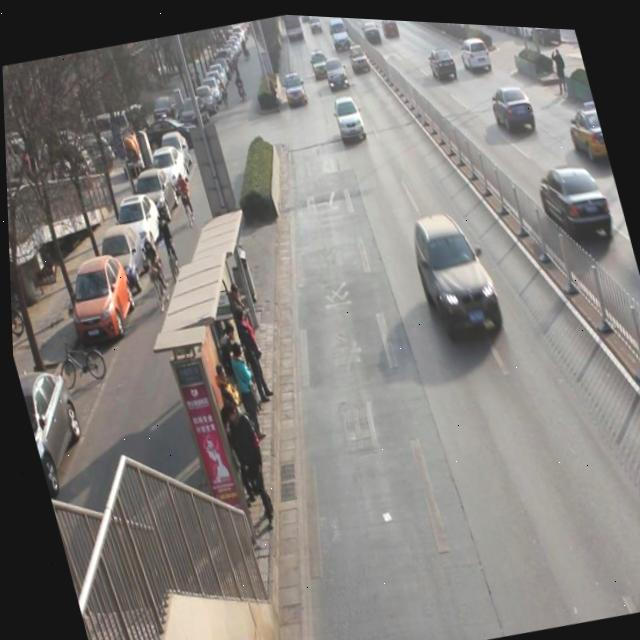car: (403, 203, 508, 345), (534, 150, 613, 239), (562, 95, 608, 162), (487, 74, 537, 132), (329, 88, 370, 145), (457, 28, 494, 72), (279, 64, 310, 107), (427, 41, 457, 78), (633, 441, 640, 597), (345, 38, 372, 73), (323, 54, 349, 90), (306, 43, 331, 79), (360, 15, 383, 44), (381, 16, 400, 36)
truck: (327, 13, 352, 46)
